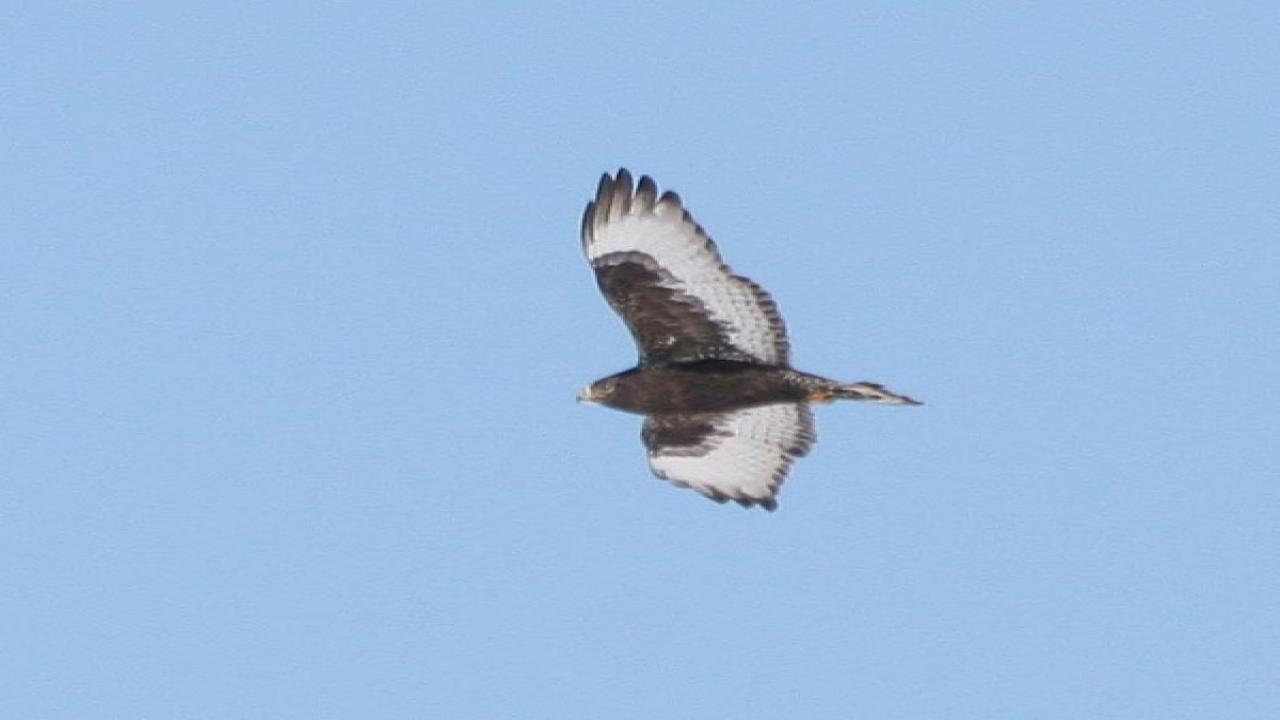Bird: (559, 160, 942, 526)
